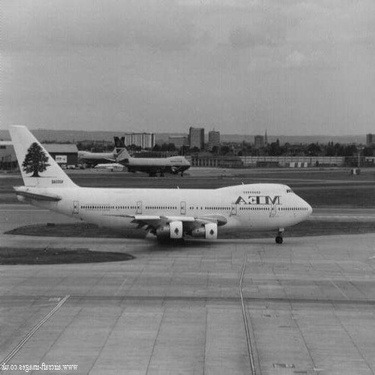airplane: (5, 117, 319, 250), (108, 133, 202, 179), (67, 128, 128, 171)
